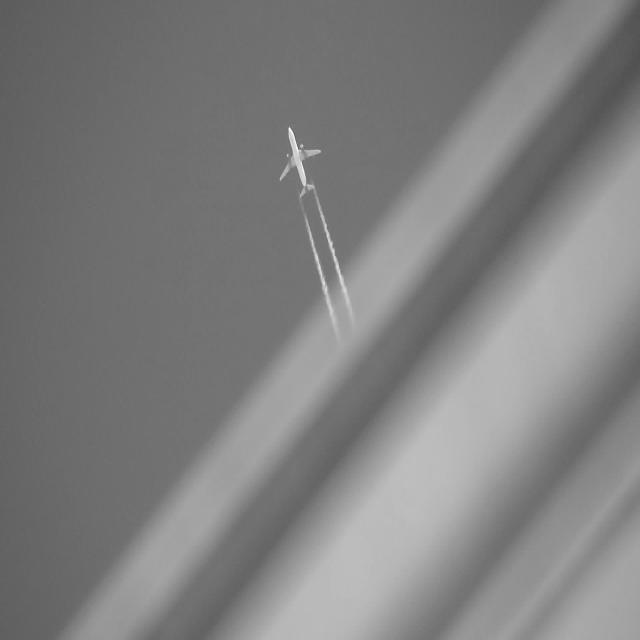aeroplane: (278, 118, 322, 205)
